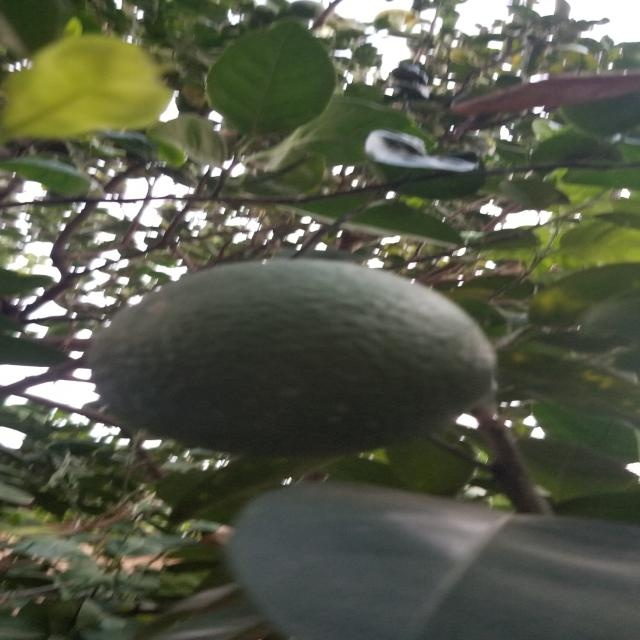agrume: (78, 254, 513, 463)
